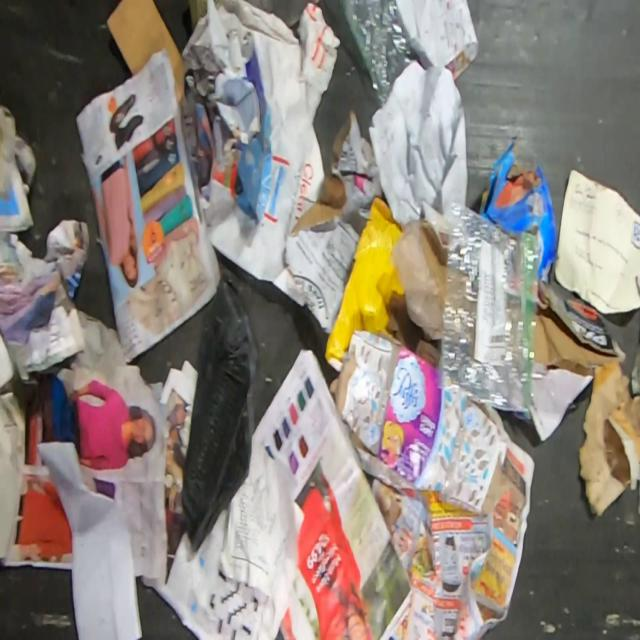cardboard: (329, 328, 516, 520), (284, 106, 389, 334), (530, 281, 628, 442), (479, 136, 557, 286), (103, 0, 184, 104), (233, 31, 275, 230), (390, 215, 448, 344)
rigid_plastic: (181, 268, 260, 554)
soft_plastic: (437, 204, 546, 412), (334, 0, 428, 111), (245, 0, 323, 27), (186, 0, 206, 35)
